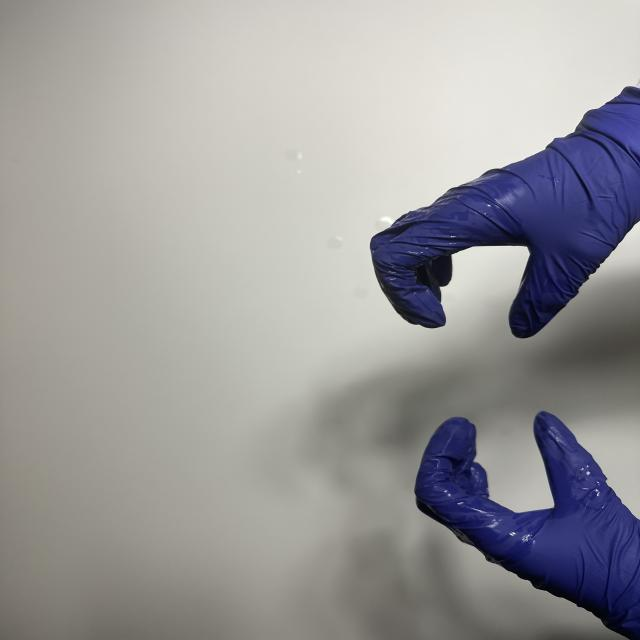gloves_contaminated: (370, 87, 640, 338), (415, 412, 640, 640)
